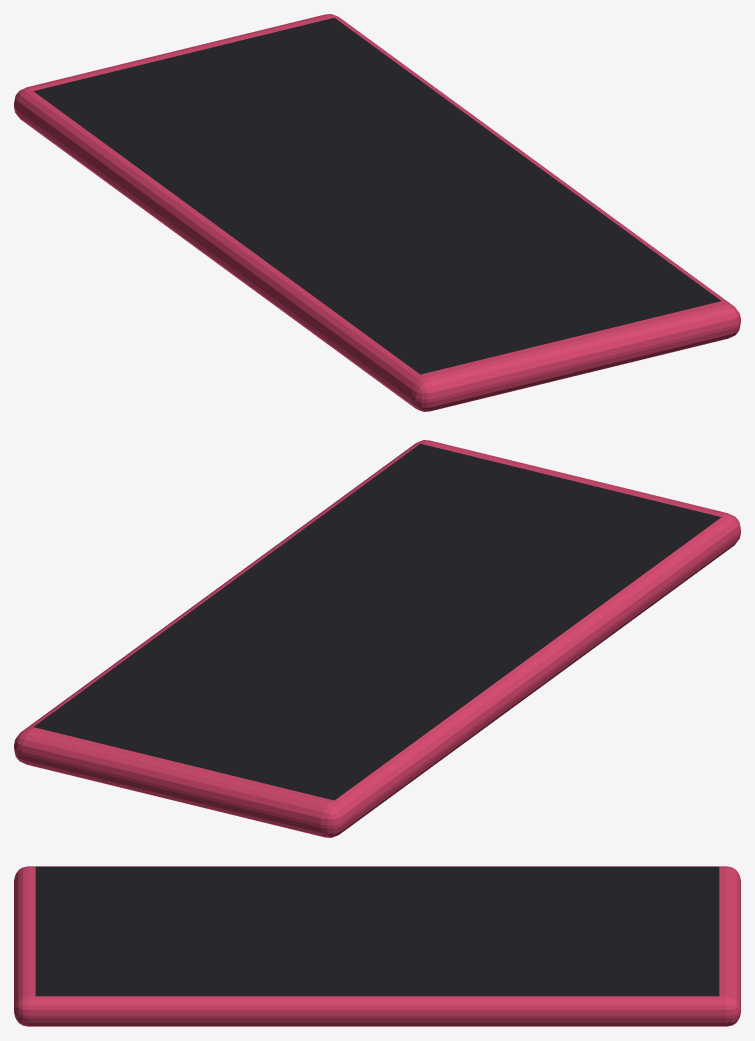
Rendered from oneplus-nord-model-236-mid-range-2021.glb.
3 renders of one model, top to bottom at view 1: azimuth 30°, elevation 25°; view 2: azimuth 150°, elevation 25°; view 3: azimuth 270°, elevation 25°, orthographic. The views are drawn at different scales.
Parts seen in each view (by area): view 1: Phone_Screen, Phone_Body; view 2: Phone_Screen, Phone_Body; view 3: Phone_Screen, Phone_Body.
Part boxes in pixels (x1,y1,x2,y2): Phone_Screen: (33,17,720,374); Phone_Body: (14,14,740,411); Phone_Screen: (34,443,721,800); Phone_Body: (14,440,740,837); Phone_Screen: (35,866,719,996); Phone_Body: (14,866,740,1026).
Bounding box in the file's own units: 0.0732 × 0.0071 × 0.1595.
